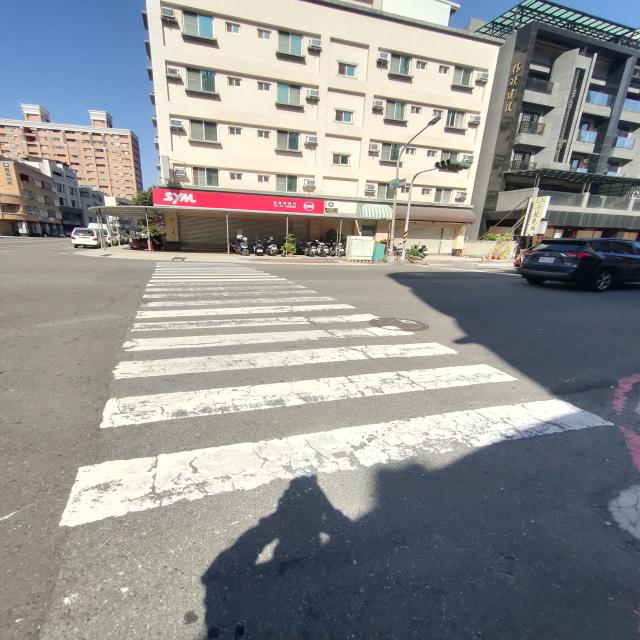zebra_crossing: (129, 0, 185, 526)
